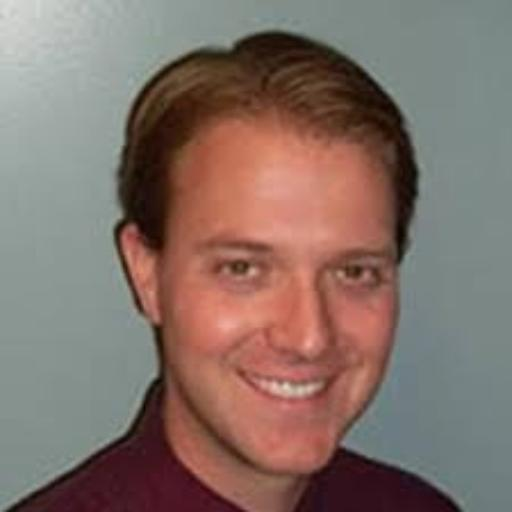left_eye: (336, 264, 389, 290)
left_lip_corner: (334, 363, 360, 381)
right_eye: (210, 258, 271, 284)
right_lip_corner: (229, 362, 250, 384)
